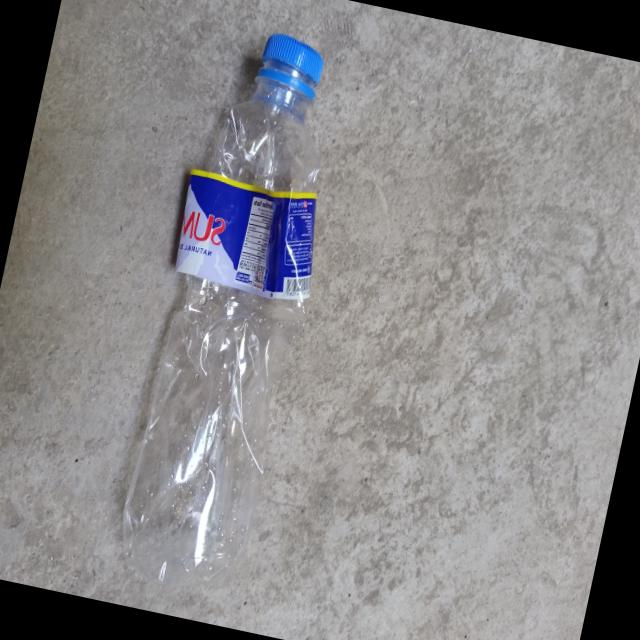Bottle: (123, 33, 323, 583)
